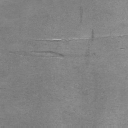finishing roll printing: (10, 50, 64, 60), (68, 34, 128, 42), (35, 38, 62, 42)
